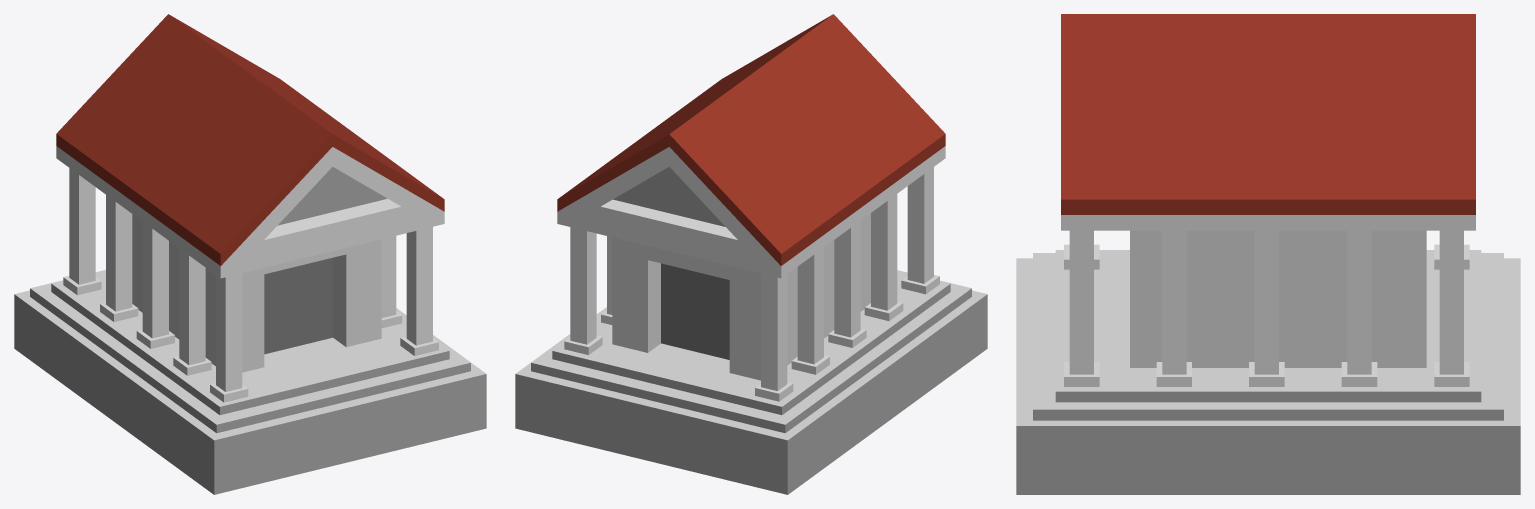
Rendered from bank.glb.
The picture shows the model from 3 angles, left to right: view 1: azimuth 30°, elevation 25°; view 2: azimuth 150°, elevation 25°; view 3: azimuth 270°, elevation 25°; orthographic projection. The views are drawn at different scales.
Visible parts, largest first — view 1: bank; view 2: bank; view 3: bank.
Boxes of the visible parts, x1,y1,x2,y2 form: bank: [14, 14, 486, 494]; bank: [515, 14, 987, 494]; bank: [1016, 14, 1520, 494].
Bounding box in the file's own units: 2.06 × 2.27 × 2.62.
